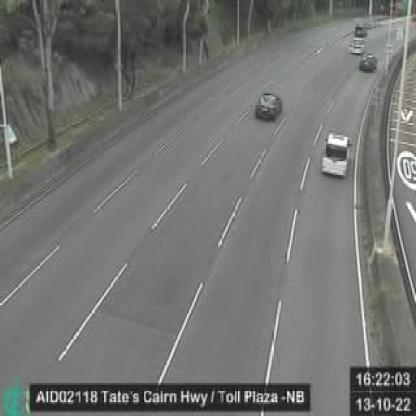Car: (321, 130, 351, 178), (254, 91, 283, 119), (360, 54, 378, 74), (349, 36, 366, 54)
